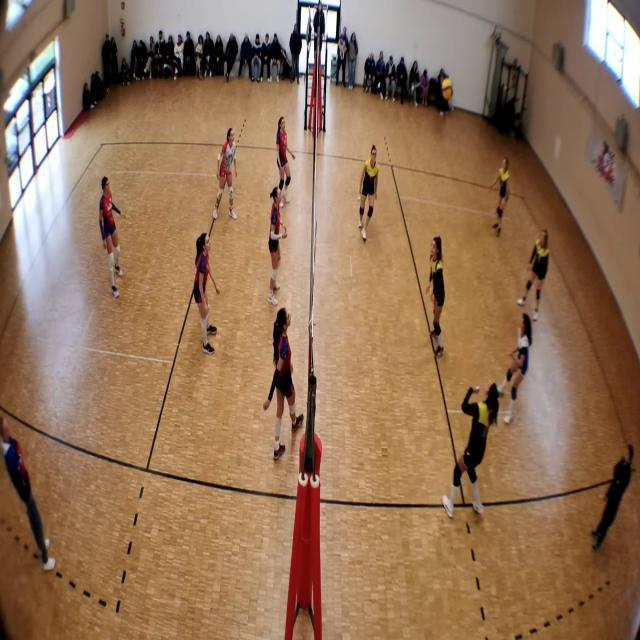volleyball: (442, 78, 454, 100)
